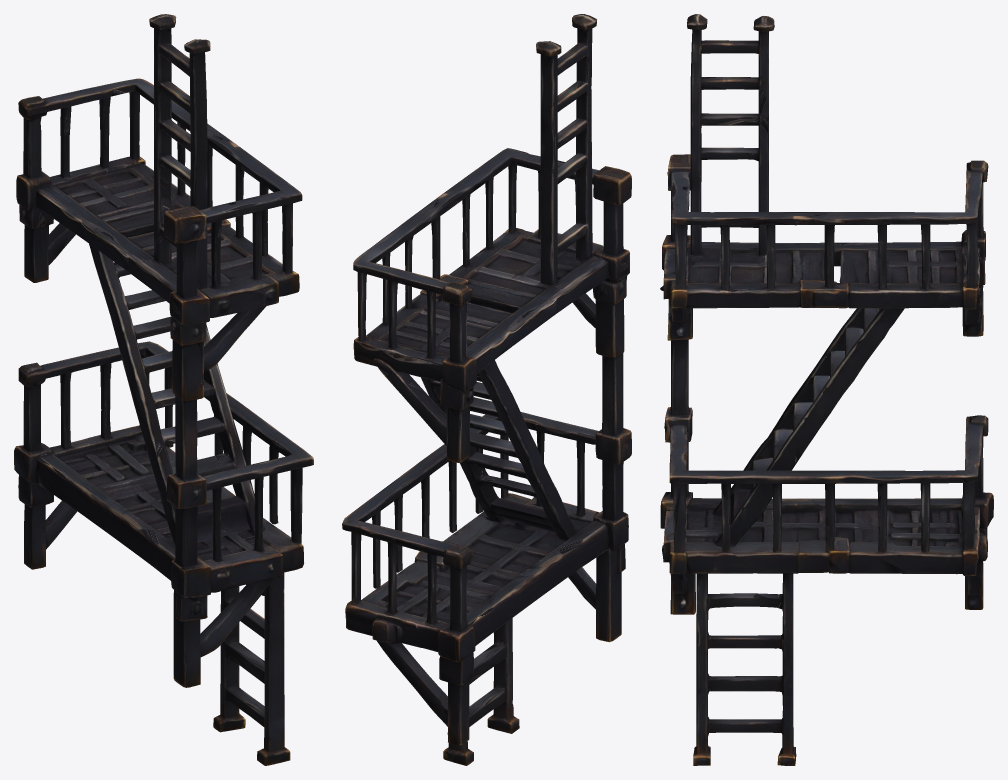
The model's file is fire-escape-ladder.glb.
The picture shows the model from 3 angles, left to right: view 1: azimuth 30°, elevation 25°; view 2: azimuth 150°, elevation 25°; view 3: azimuth 270°, elevation 25°; orthographic projection. The views are drawn at different scales.
Parts seen in each view (by area): view 1: SM_FireEscapeLadder; view 2: SM_FireEscapeLadder; view 3: SM_FireEscapeLadder.
Part boxes in pixels (bbox=[...]): SM_FireEscapeLadder: bbox=[14, 14, 313, 765]; SM_FireEscapeLadder: bbox=[342, 14, 631, 765]; SM_FireEscapeLadder: bbox=[660, 14, 993, 765].
Bounding box in the file's own units: 1.77 × 9 × 3.85.
1 material, 1 textured.
